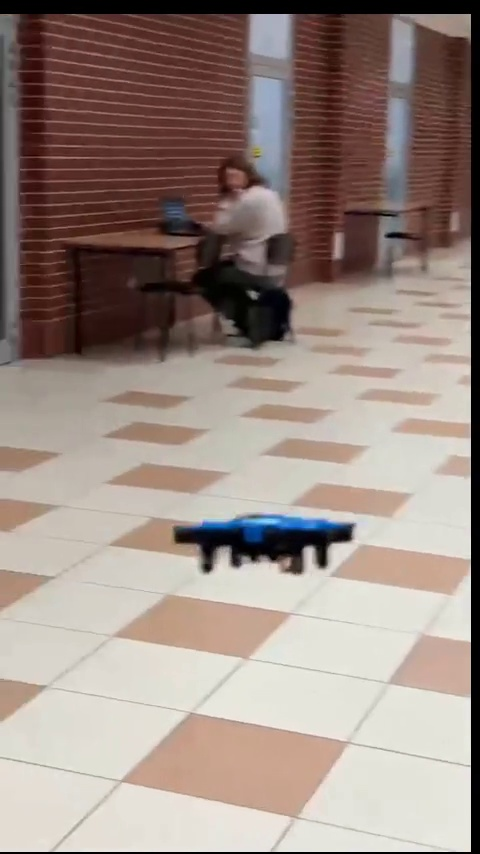drone: (169, 512, 357, 571)
no vest: (192, 159, 295, 338)
